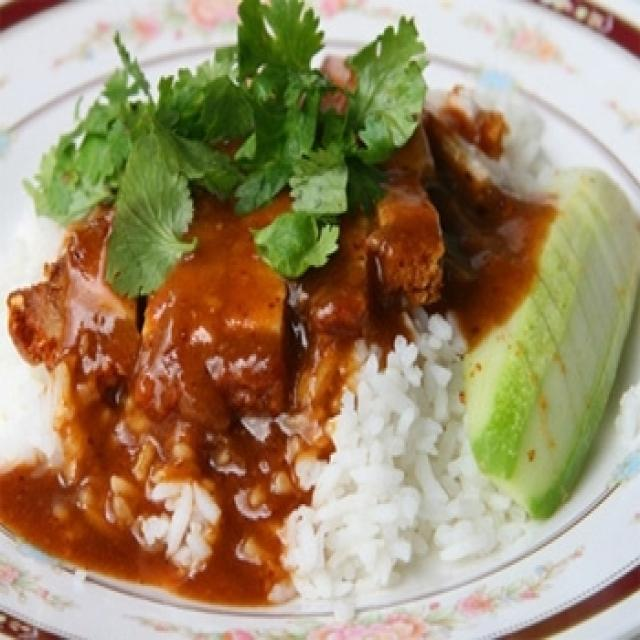猪肉菜式: (16, 23, 624, 626)
